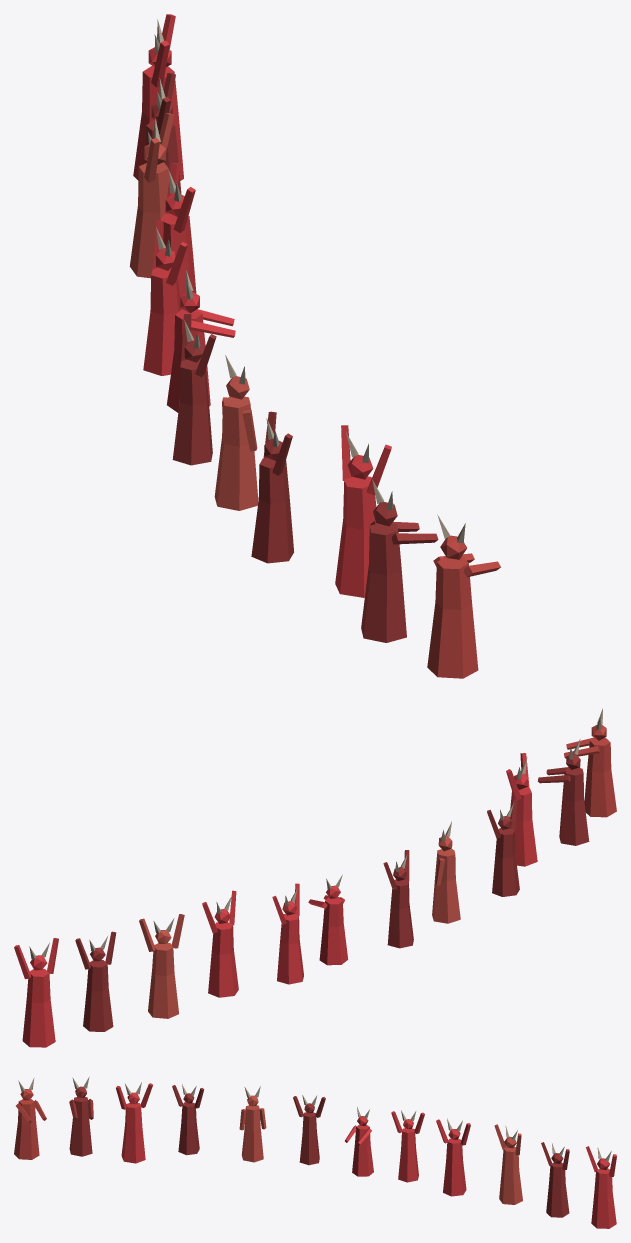
Rendered from Stands_8_0_2_Ice.obj.
3 renders of one model, top to bottom at view 1: azimuth 30°, elevation 25°; view 2: azimuth 150°, elevation 25°; view 3: azimuth 270°, elevation 25°, orthographic. The views are drawn at different scales.
Parts seen in each view (by area): view 1: Stands_8_0_2_Ice; view 2: Stands_8_0_2_Ice; view 3: Stands_8_0_2_Ice.
Part boxes in pixels (x1=…): Stands_8_0_2_Ice: x1=129, y1=14, x2=500, y2=678; Stands_8_0_2_Ice: x1=14, y1=708, x2=616, y2=1047; Stands_8_0_2_Ice: x1=14, y1=1077, x2=616, y2=1228.
Size of the model in its own units: 10.45 by 4.38 by 31.5.
Materials: 1 (1 with a texture image).
